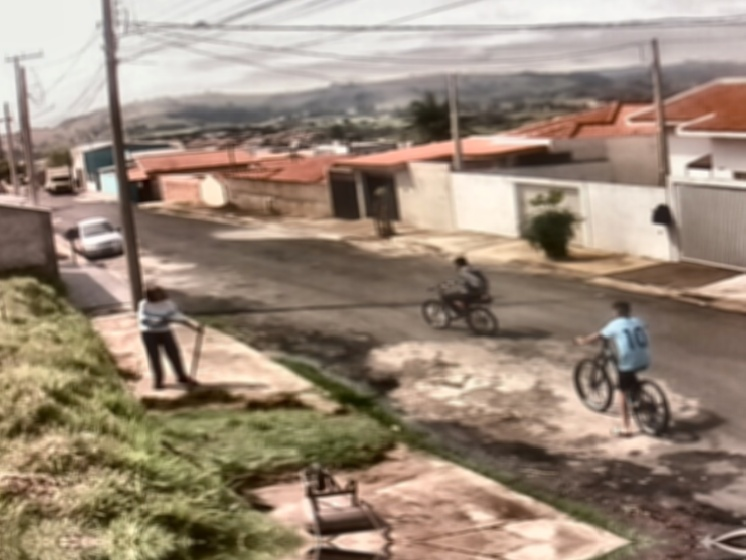person: (573, 301, 647, 437), (135, 285, 199, 390), (439, 257, 490, 322)
